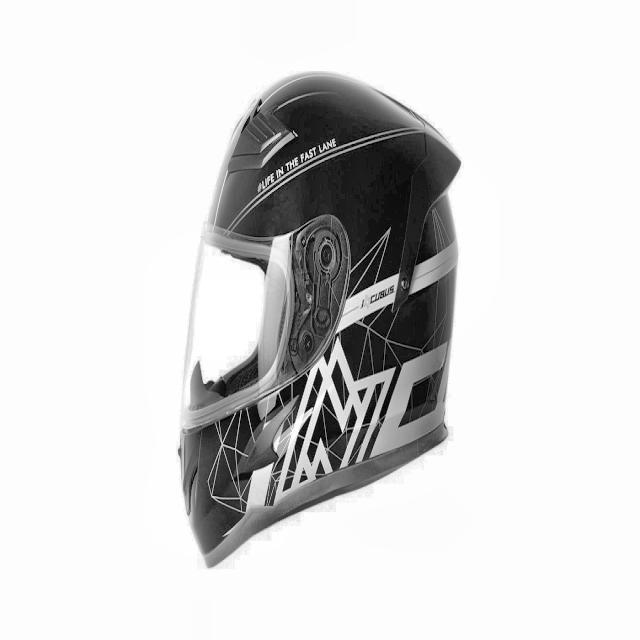Helmet: (175, 58, 471, 589)
